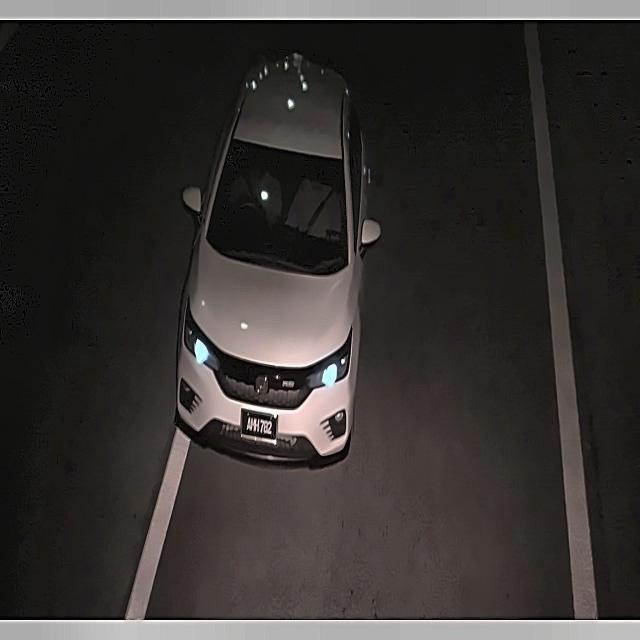car: (239, 406, 278, 444)
